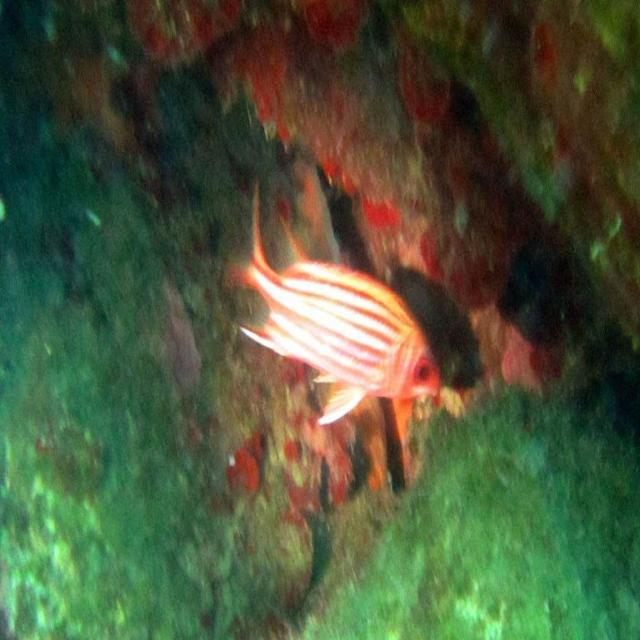Asker Baligi: (217, 163, 451, 431)
